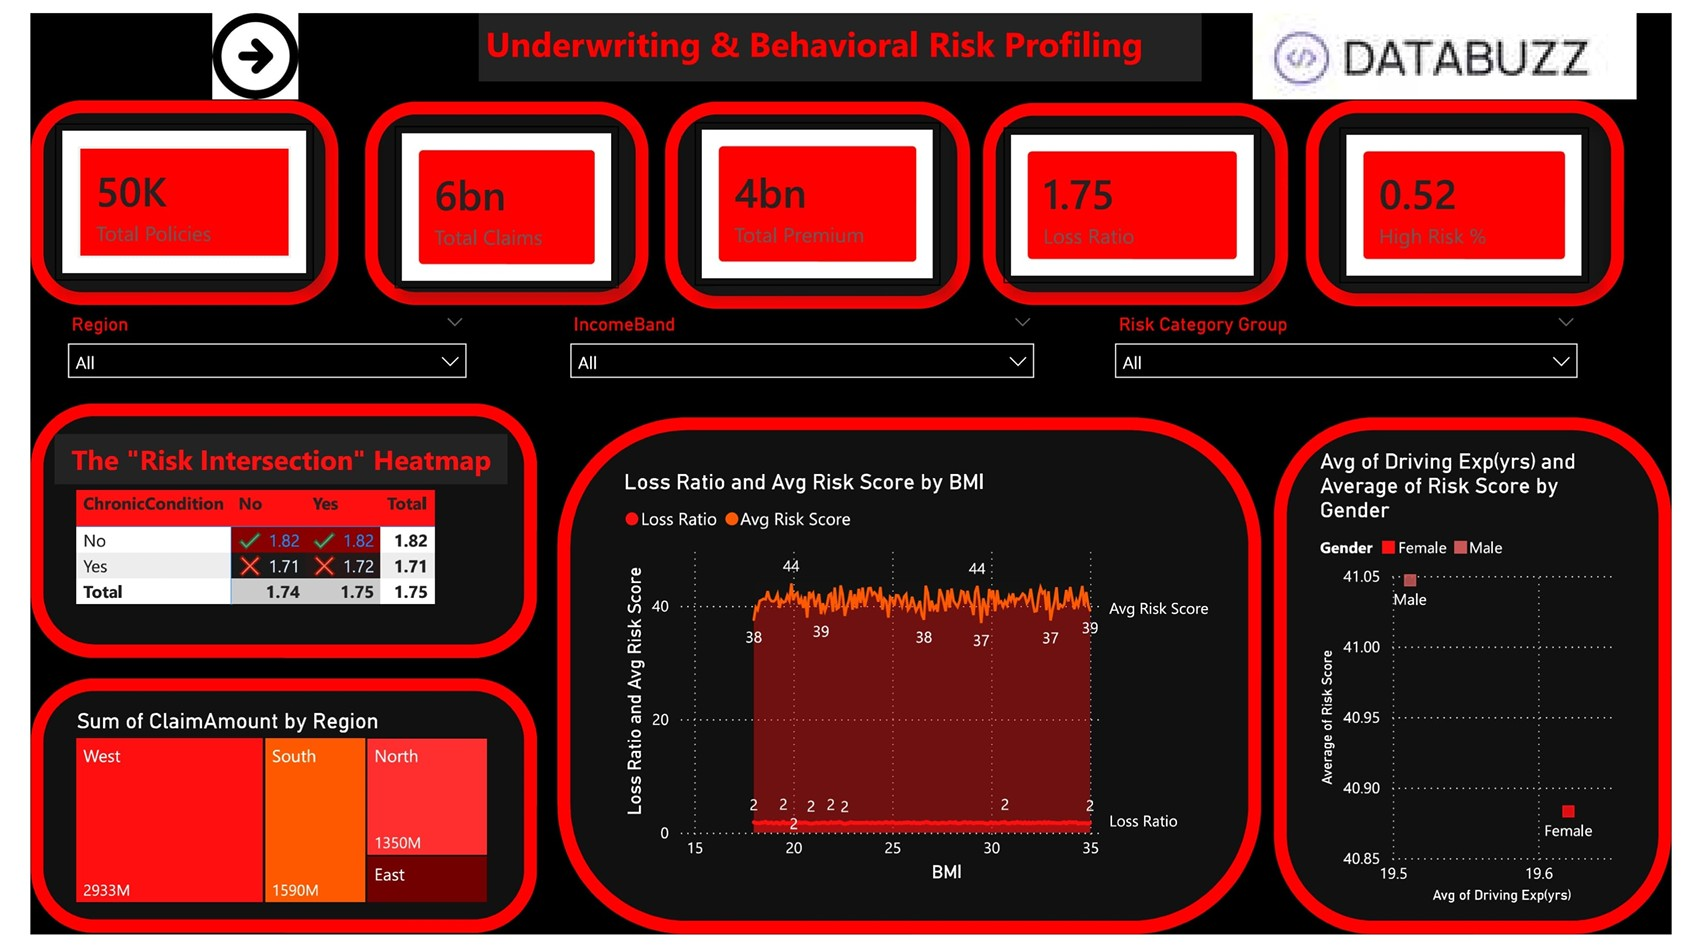

This screenshot's page, from the dashboard's own definition file:
{"tool":"powerbi","page":{"name":"Underwriting & Behavioral Risk Profiling","canvas":[1280,720],"ordinal":2},"visuals":[{"type":"shape","box":[0,305.2,394.5,199.1],"z":0},{"type":"shape","box":[411.4,316.1,548.9,404.2],"z":1000},{"type":"shape","box":[970,315.7,310,404.3],"z":2000},{"type":"shape","box":[742.5,70,238.3,158.3],"z":3000},{"type":"shape","box":[0,67.5,240,160],"z":4000},{"type":"shape","box":[260.7,68.6,220.9,159.2],"z":5000},{"type":"shape","box":[495.4,68.6,237.4,161.9],"z":6000},{"type":"cardVisual","fields":{"Data":["_Measures.Total Policies"]},"box":[18.8,86.2,202.5,122.5],"z":7000},{"type":"cardVisual","fields":{"Data":["_Measures.Total Claims"]},"box":[283.8,87.5,175,127.5],"z":8000},{"type":"cardVisual","fields":{"Data":["_Measures.Total Premium"]},"box":[517.5,85,192.5,127.5],"z":9000},{"type":"shape","box":[995,68,248,161],"z":10000},{"type":"cardVisual","fields":{"Data":["_Measures.Loss Ratio"]},"box":[758.8,88.8,201.2,122.5],"z":11000},{"type":"cardVisual","fields":{"Data":["_Measures.High Risk %"]},"box":[1021.2,88.8,195,122.5],"z":12000},{"type":"pivotTable","fields":{"Rows":["Dim_Health.ChronicCondition"],"Columns":["Dim_Health.Smoker"],"Values":["_Measures.Loss Ratio"]},"box":[31.4,368,300.4,115.8],"z":13000},{"type":"areaChart","fields":{"Category":["Dim_Health.BMI"],"Y":["_Measures.Loss Ratio","_Measures.Avg Risk Score"]},"box":[458.4,355.9,468.1,328.2],"z":14000},{"type":"scatterChart","fields":{"X":["Avg(Dim_Driving.DrivingExperienceYears)"],"Y":["Avg(Fact_Risk_Premium.RiskScore)"],"Series":["Dim_Customer.Gender"]},"box":[1001.4,340,248.6,360],"z":15000},{"type":"textbox","box":[350,0,564.3,52.9],"z":16000},{"type":"slicer","fields":{"Values":["Dim_Customer.Region"]},"box":[18.6,230,331.4,74.3],"z":17000},{"type":"slicer","fields":{"Values":["Dim_Customer.IncomeBand"]},"box":[411.4,230,381.4,74.3],"z":18000},{"type":"slicer","fields":{"Values":["Fact_Risk_Premium.Risk Category Group"]},"box":[835.7,230,381.4,74.3],"z":19000},{"type":"image","box":[927.1,0,352.9,67.1],"z":20000},{"type":"textbox","box":[19.3,329.4,352.3,38.6],"z":21000},{"type":"shape","box":[0,520,394.5,199.1],"z":22000},{"type":"treemap","fields":{"Group":["Fact_Risk_Premium.Region","Dim_Customer.IncomeBand"],"Values":["Sum(Fact_Risk_Premium.ClaimAmount)"]},"box":[31.4,542.9,329.4,156.8],"z":23000},{"type":"image","box":[0,0,350,67.1],"z":23001}]}

Visuals, with their boxes in screenshot pixels (x1, y1, x2, y2), scaled from the page's 1280x720 canvas onto the 1700x945 screenshot:
shape: detection(0, 401, 524, 662)
shape: detection(546, 415, 1275, 944)
shape: detection(1288, 414, 1699, 944)
shape: detection(986, 92, 1303, 300)
shape: detection(0, 89, 319, 299)
shape: detection(346, 90, 640, 299)
shape: detection(658, 90, 973, 303)
cardVisual - _Measures.Total Policies: detection(25, 113, 294, 274)
cardVisual - _Measures.Total Claims: detection(377, 115, 609, 282)
cardVisual - _Measures.Total Premium: detection(687, 112, 943, 279)
shape: detection(1321, 89, 1651, 301)
cardVisual - _Measures.Loss Ratio: detection(1008, 117, 1275, 277)
cardVisual - _Measures.High Risk %: detection(1356, 117, 1615, 277)
pivotTable - Dim_Health.ChronicCondition x Dim_Health.Smoker: detection(42, 483, 441, 635)
areaChart - Dim_Health.BMI x _Measures.Loss Ratio: detection(609, 467, 1231, 898)
scatterChart - Avg(Dim_Driving.DrivingExperienceYears) x Avg(Fact_Risk_Premium.RiskScore): detection(1330, 446, 1660, 919)
textbox: detection(465, 0, 1214, 69)
slicer - Dim_Customer.Region: detection(25, 302, 465, 399)
slicer - Dim_Customer.IncomeBand: detection(546, 302, 1053, 399)
slicer - Fact_Risk_Premium.Risk Category Group: detection(1110, 302, 1616, 399)
image: detection(1231, 0, 1699, 88)
textbox: detection(26, 432, 494, 483)
shape: detection(0, 682, 524, 944)
treemap - Fact_Risk_Premium.Region x Dim_Customer.IncomeBand: detection(42, 713, 479, 918)
image: detection(0, 0, 465, 88)
